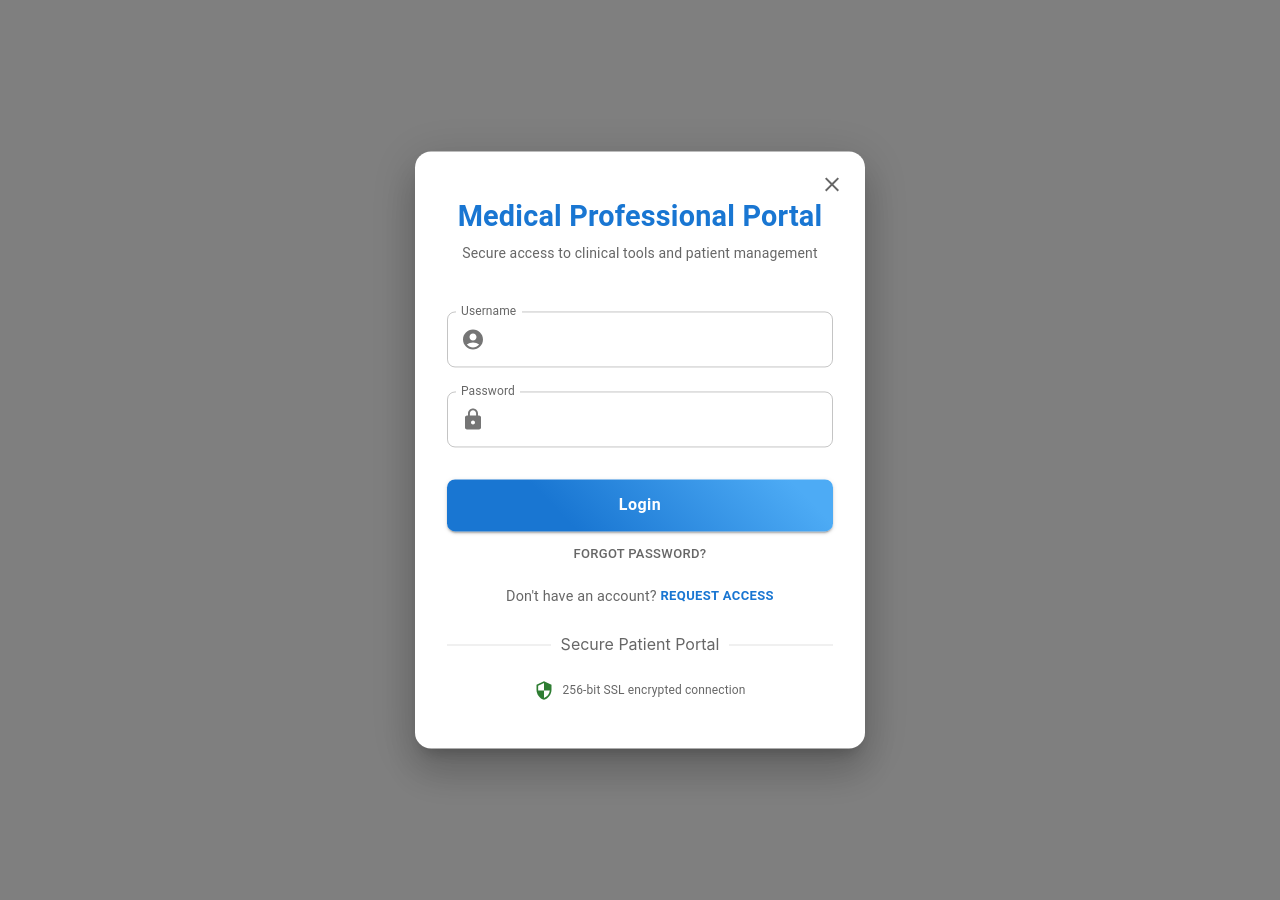
it: DoctorLoginPage › displays error on login failure
The width and height of the screenshot is (1280, 900).
Step 1. Type "fail" into the field labelled "Username" → (663, 339), box [493, 311, 833, 367]
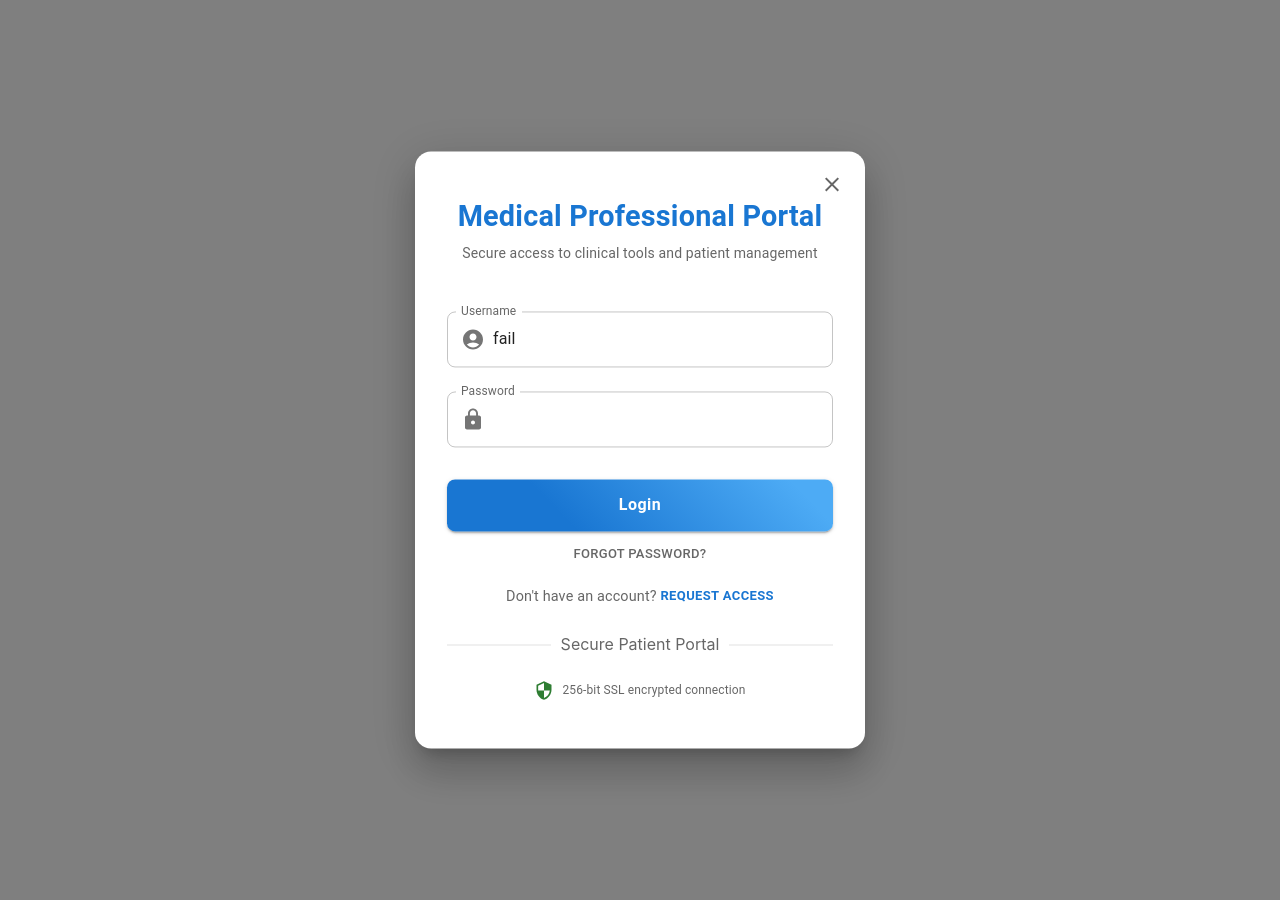
Step 2. Type "wrong" into the password field labelled "Password" → (663, 419), box [493, 391, 833, 447]
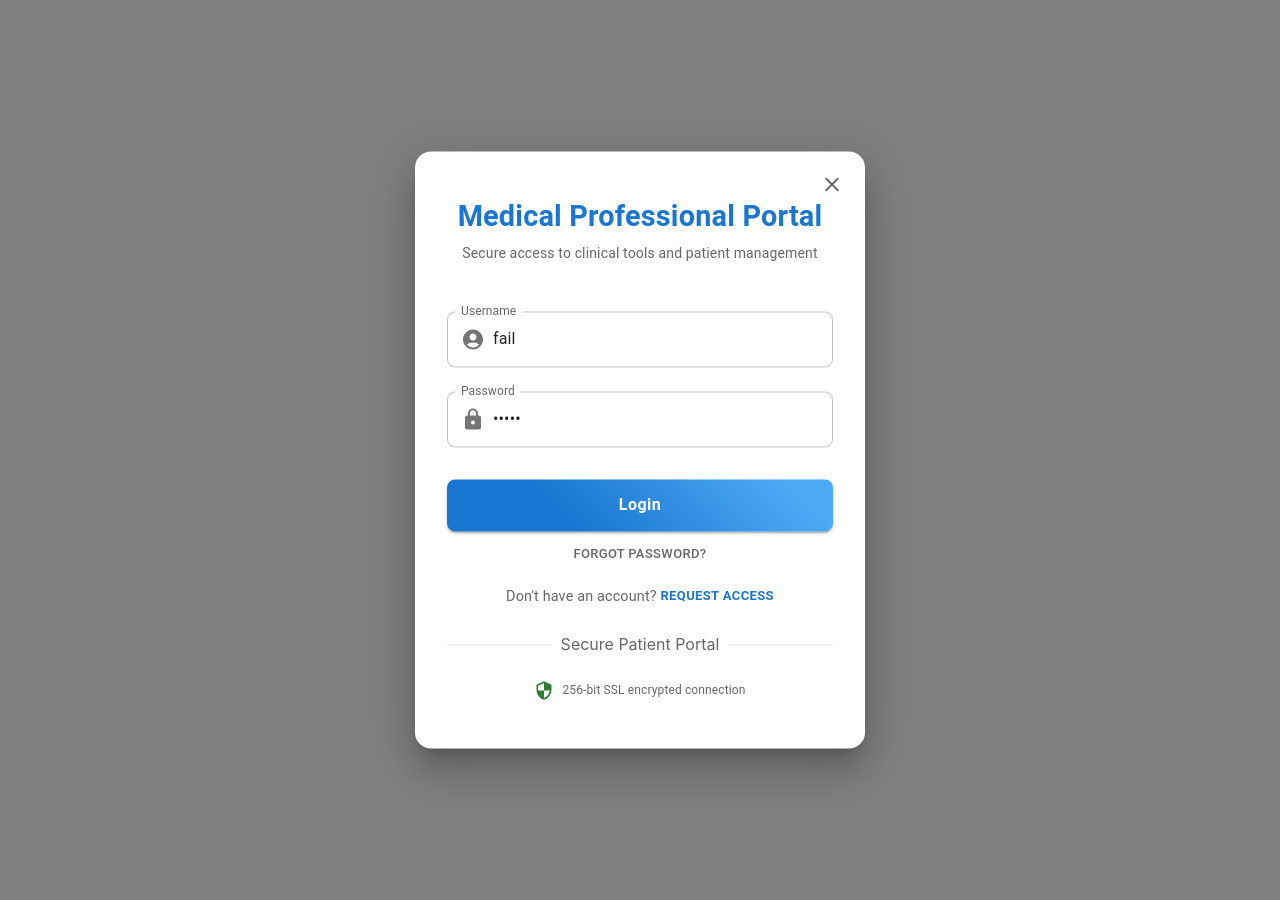
Step 3. Click the button "Login" → (640, 505), box [447, 479, 833, 531]
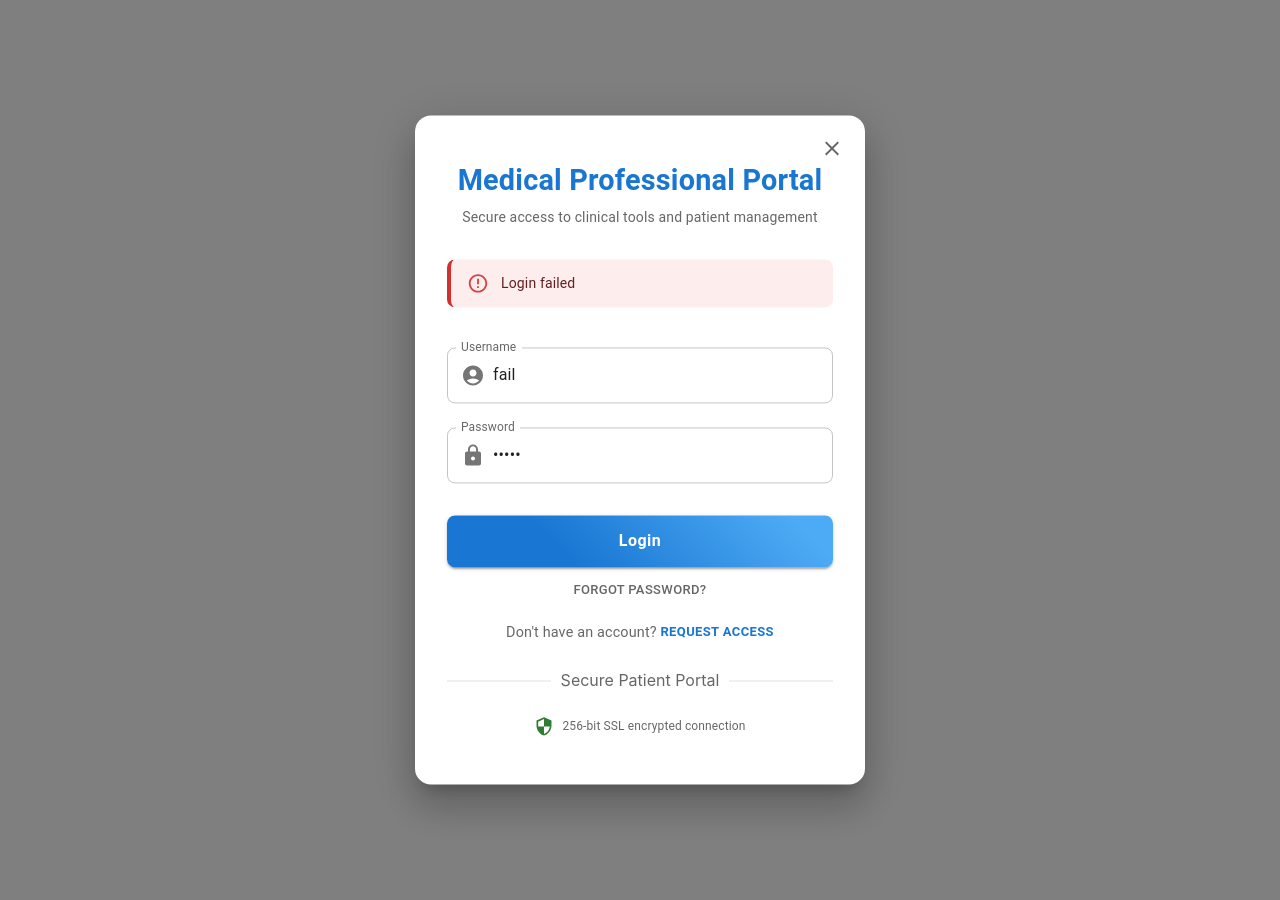
Check: the text "Login failed" is shown, box [501, 275, 575, 291]
